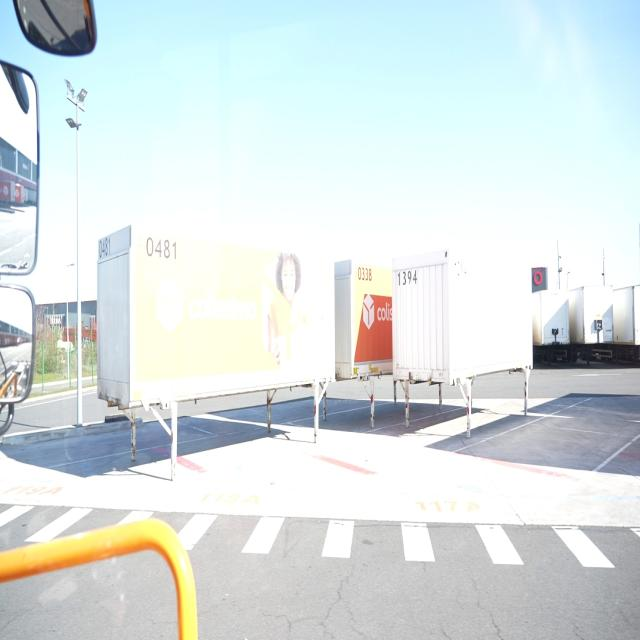Code: (143, 234, 178, 262), (396, 267, 420, 289), (98, 234, 112, 258), (357, 265, 374, 284)
